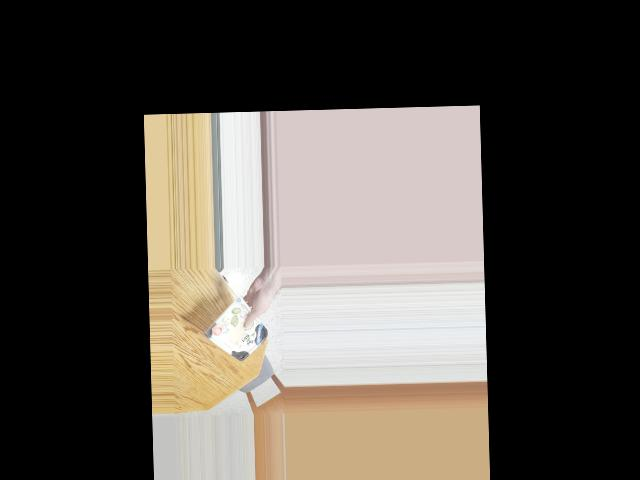cheese: (211, 306, 268, 356)
